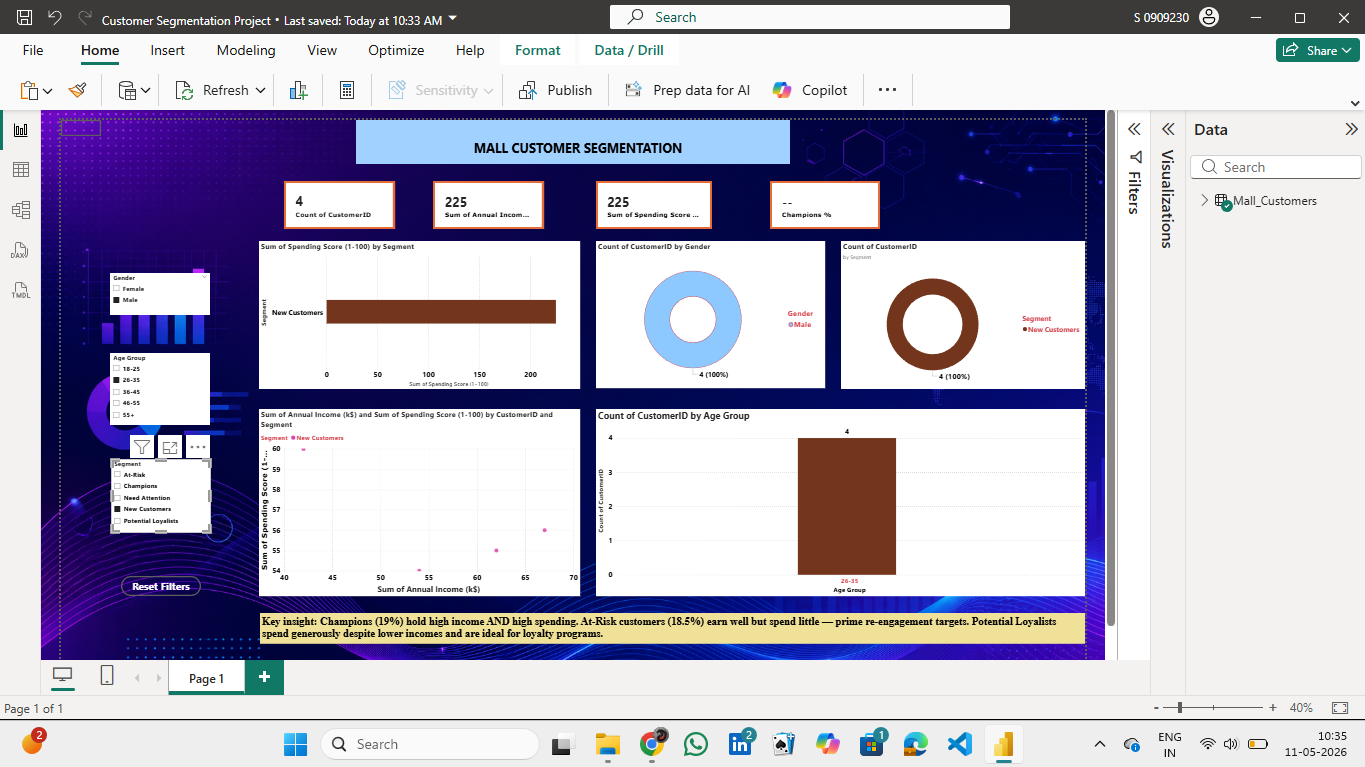

Layout of this report page (visuals, bound fields, positions):
{"tool":"powerbi","page":{"name":"Page 1","canvas":[2560,1440],"ordinal":0},"visuals":[{"type":"cardVisual","fields":{"Data":["CountNonNull(Mall_Customers.CustomerID)"]},"box":[557.5,152.5,277.5,120],"z":0},{"type":"cardVisual","fields":{"Data":["Sum(Mall_Customers.Annual Income (k$))"]},"box":[930,152.5,277.5,120],"z":1000},{"type":"cardVisual","fields":{"Data":["Sum(Mall_Customers.Spending Score (1-100))"]},"box":[1337.5,152.5,290,120],"z":2000},{"type":"textbox","box":[737.5,0,1085,110],"z":3000},{"type":"scatterChart","fields":{"Y":["Sum(Mall_Customers.Spending Score (1-100))"],"X":["Sum(Mall_Customers.Annual Income (k$))"],"Category":["Mall_Customers.CustomerID"],"Series":["Mall_Customers.Segment"]},"box":[495,722.5,802.5,467.5],"z":4000},{"type":"donutChart","fields":{"Category":["Mall_Customers.Segment"],"Y":["CountNonNull(Mall_Customers.CustomerID)"]},"box":[1950,302.5,610,370],"z":5000},{"type":"slicer","fields":{"Values":["Mall_Customers.Gender"]},"box":[122.5,382.5,250,105],"z":6000},{"type":"slicer","fields":{"Values":["Mall_Customers.Age Group"]},"box":[122.5,582.5,250,180],"z":7000},{"type":"slicer","fields":{"Values":["Mall_Customers.Segment"]},"box":[125,847.5,250,185],"z":8000},{"type":"donutChart","fields":{"Category":["Mall_Customers.Gender"],"Y":["CountNonNull(Mall_Customers.CustomerID)"]},"box":[1337.5,302.5,572.5,367.5],"z":9000},{"type":"clusteredBarChart","fields":{"Category":["Mall_Customers.Segment"],"Y":["Sum(Mall_Customers.Spending Score (1-100))"]},"box":[495,302.5,802.5,370],"z":10000},{"type":"clusteredColumnChart","fields":{"Category":["Mall_Customers.Age Group"],"Y":["CountNonNull(Mall_Customers.CustomerID)"]},"box":[1337.5,722.5,1222.5,467.5],"z":11000},{"type":"cardVisual","fields":{"Data":["Mall_Customers.Champions %"]},"box":[1772.5,152.5,275,120],"z":12000},{"type":"actionButton","box":[0,0,100,40],"z":13000},{"type":"actionButton","box":[150,1140,200,50],"z":14000},{"type":"textbox","box":[496.7,1233.3,2063.3,76.7],"z":14001}]}

Visuals, with their boxes on the page's 2560x1440 design canvas (x1, y1, x2, y2). These are canvas units, not pixel positions in the 1365x767 screenshot, which may show the page scaled, cropped or inside an application window:
cardVisual - CountNonNull(Mall_Customers.CustomerID): l=558, t=152, r=835, b=272
cardVisual - Sum(Mall_Customers.Annual Income (k$)): l=930, t=152, r=1208, b=272
cardVisual - Sum(Mall_Customers.Spending Score (1-100)): l=1338, t=152, r=1628, b=272
textbox: l=738, t=0, r=1822, b=110
scatterChart - Sum(Mall_Customers.Spending Score (1-100)) x Sum(Mall_Customers.Annual Income (k$)): l=495, t=722, r=1298, b=1190
donutChart - Mall_Customers.Segment x CountNonNull(Mall_Customers.CustomerID): l=1950, t=302, r=2560, b=672
slicer - Mall_Customers.Gender: l=122, t=382, r=372, b=488
slicer - Mall_Customers.Age Group: l=122, t=582, r=372, b=762
slicer - Mall_Customers.Segment: l=125, t=848, r=375, b=1032
donutChart - Mall_Customers.Gender x CountNonNull(Mall_Customers.CustomerID): l=1338, t=302, r=1910, b=670
clusteredBarChart - Mall_Customers.Segment x Sum(Mall_Customers.Spending Score (1-100)): l=495, t=302, r=1298, b=672
clusteredColumnChart - Mall_Customers.Age Group x CountNonNull(Mall_Customers.CustomerID): l=1338, t=722, r=2560, b=1190
cardVisual - Mall_Customers.Champions %: l=1772, t=152, r=2048, b=272
actionButton: l=0, t=0, r=100, b=40
actionButton: l=150, t=1140, r=350, b=1190
textbox: l=497, t=1233, r=2560, b=1310
